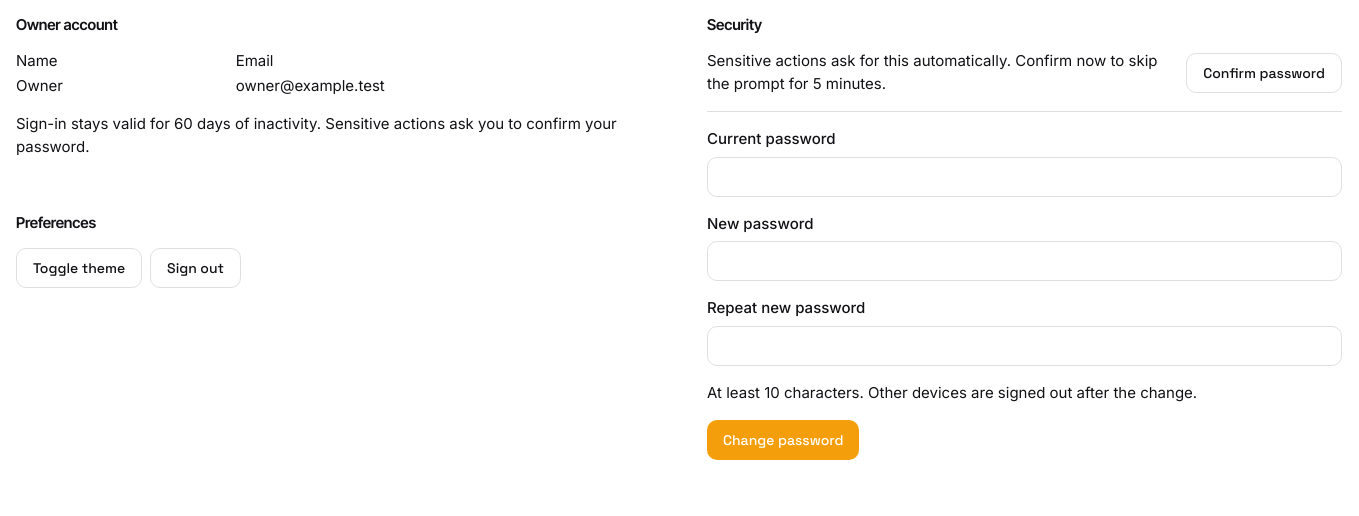
Test: owner password settings › explains a wrong current password
Check: the heading "Security" is shown, box x1=707 y1=16 x2=762 y2=34
In the password field labelled "Current password": point(1024, 176) x1=707 y1=156 x2=1342 y2=196, type "old-password-1"
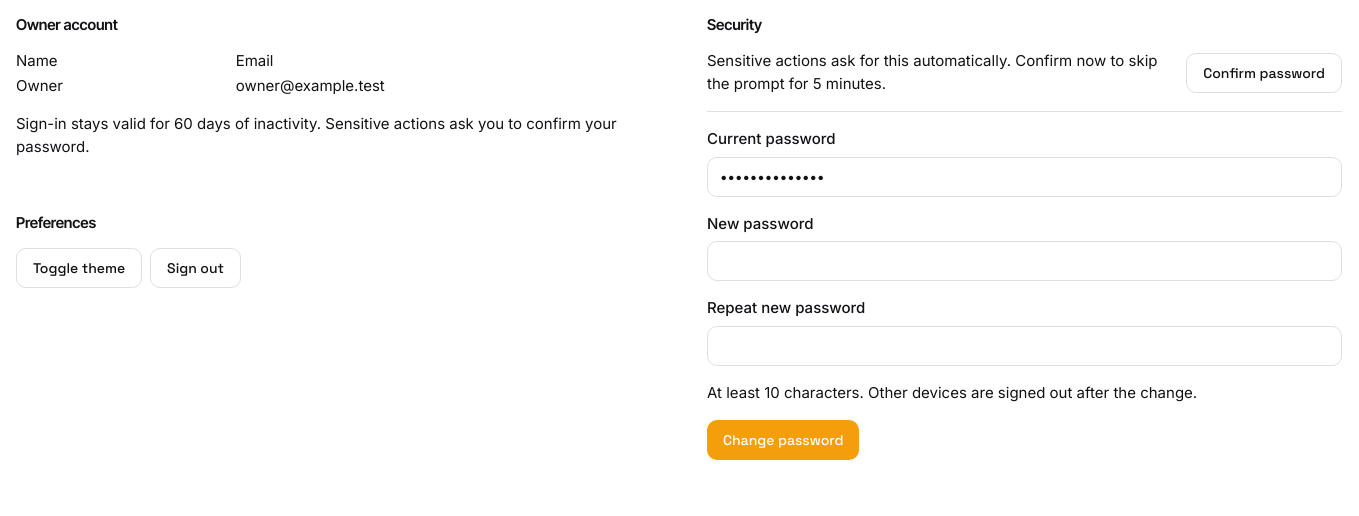
In the password field labelled "New password": point(1024, 261) x1=707 y1=241 x2=1342 y2=281, type "new-password-1"
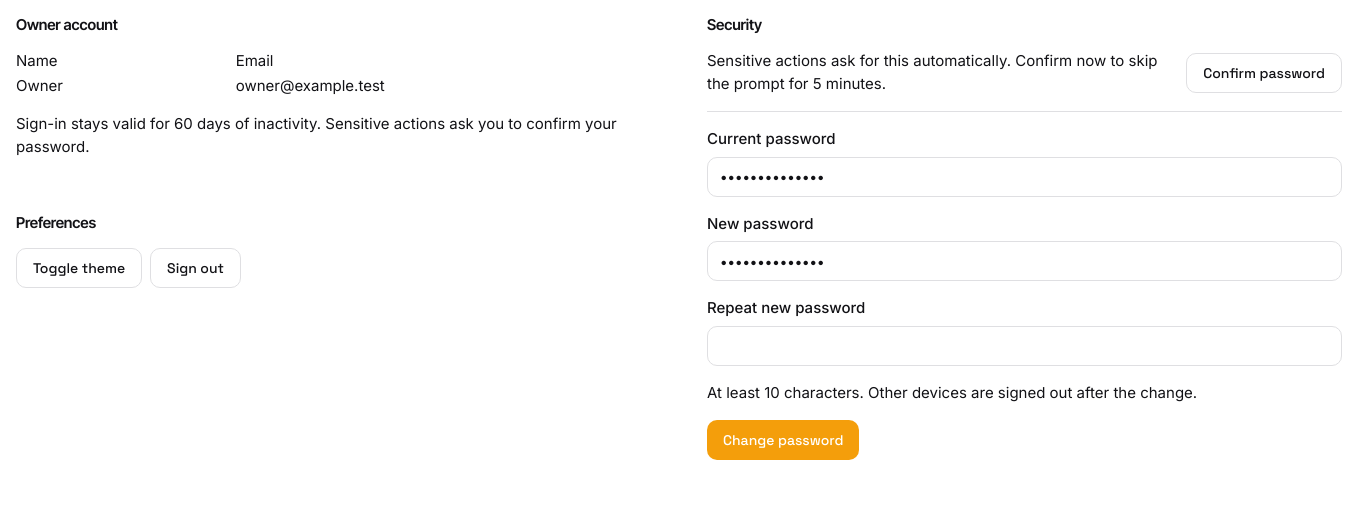
In the password field labelled "Repeat new password": point(1024, 346) x1=707 y1=326 x2=1342 y2=366, type "new-password-1"
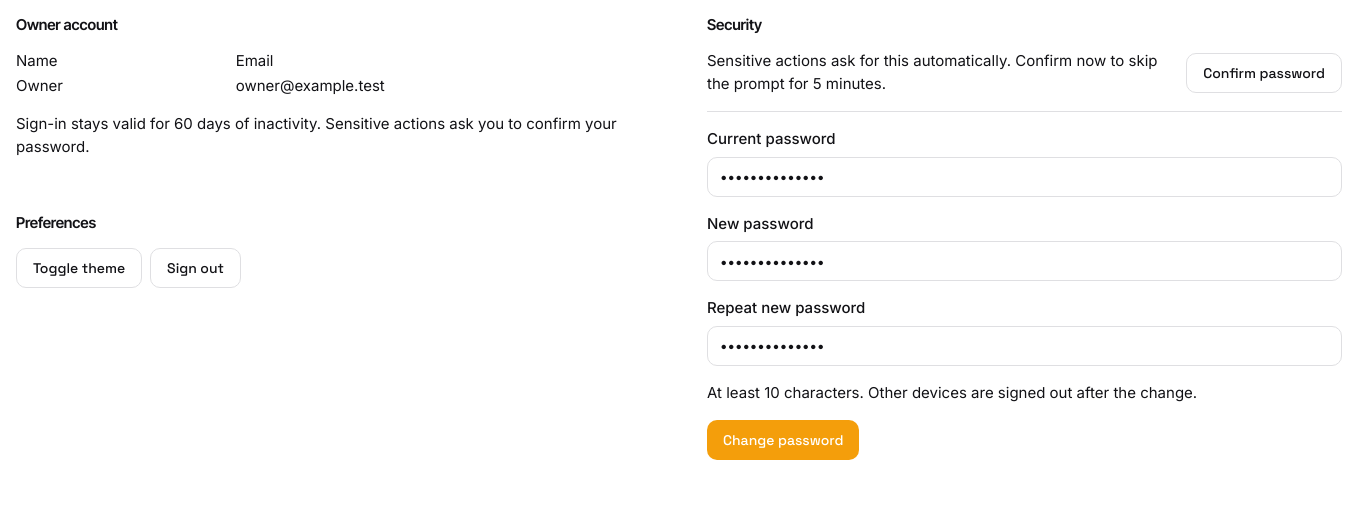
Click the button "Change password": point(783, 440) x1=707 y1=420 x2=859 y2=460
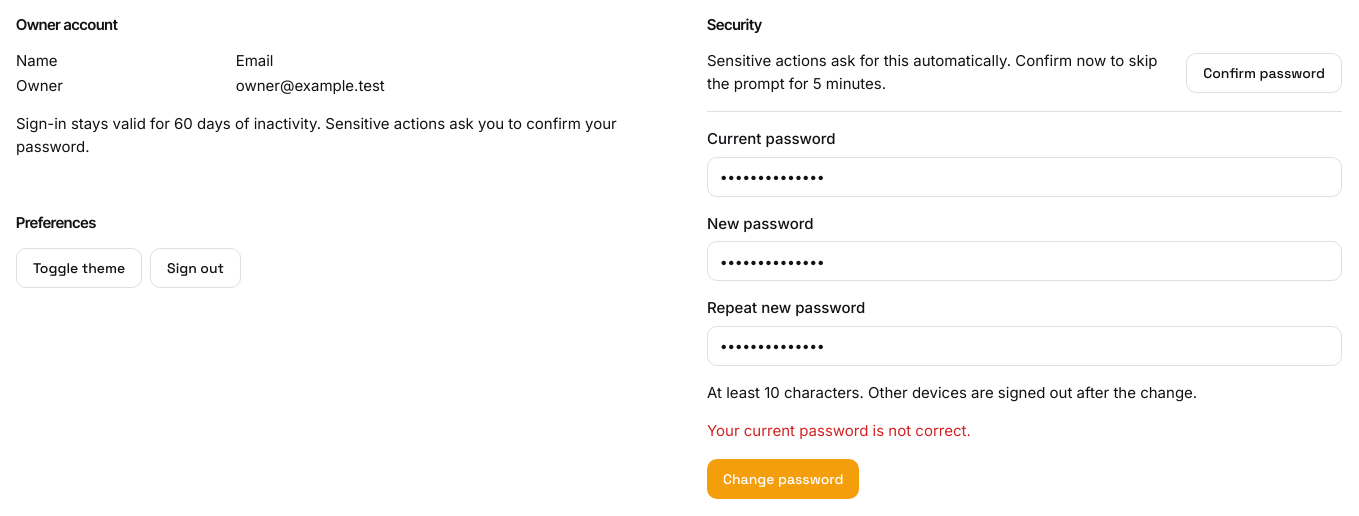
Check: the message shows "current password is not correct", box x1=707 y1=421 x2=971 y2=440
